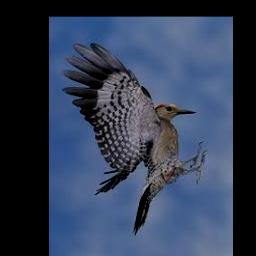Woodpecker: (62, 43, 207, 235)
